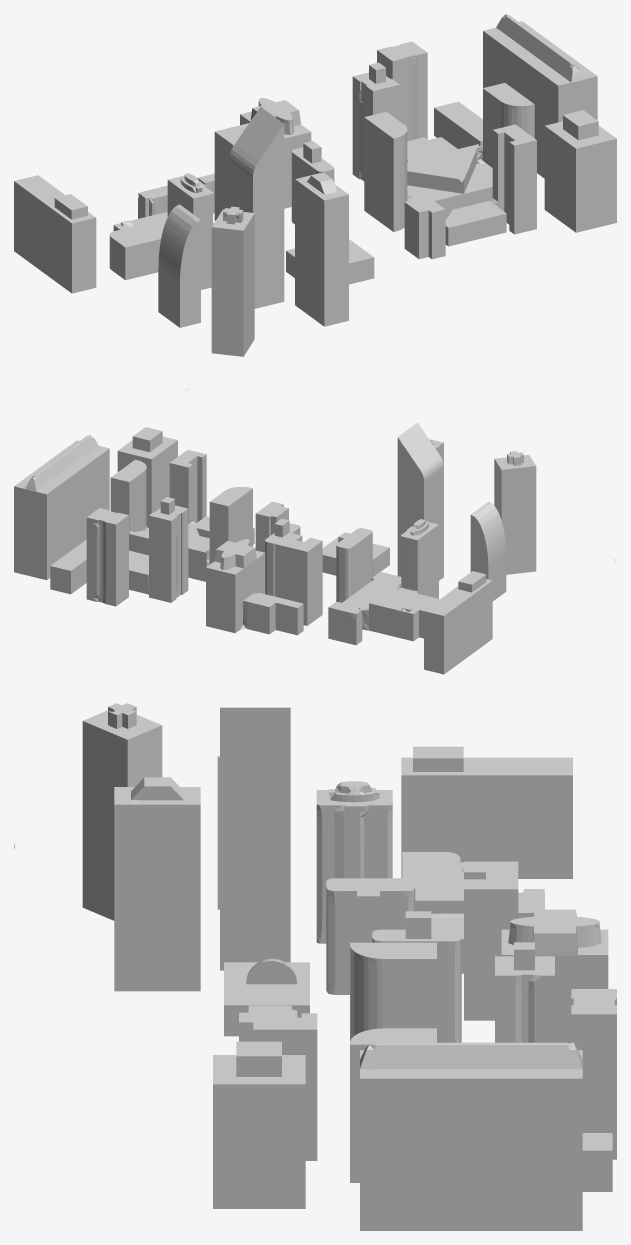
Rendered from wab_partialAnim21.glb.
3 views of the same model, one above another, from view 1: azimuth 30°, elevation 25°; view 2: azimuth 150°, elevation 25°; view 3: azimuth 270°, elevation 25° (orthographic). The views are drawn at different scales.
Visible parts, largest first — view 1: mesh0; view 2: mesh0; view 3: mesh0.
Boxes of the visible parts, box(x1,y1,x2,y2) form: mesh0: box(14, 14, 616, 356); mesh0: box(14, 422, 536, 674); mesh0: box(82, 703, 616, 1230).
Size of the model in its own units: 1.71 by 0.5474 by 1.14.
Materials: 17 (16 with a texture image).
